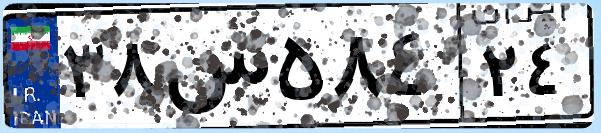2: (475, 38, 525, 113)
3: (57, 26, 110, 100)
4: (385, 28, 445, 110), (525, 38, 570, 115)
5: (270, 28, 330, 110)
8: (330, 28, 385, 110), (110, 28, 158, 98)
س: (158, 20, 270, 120)
